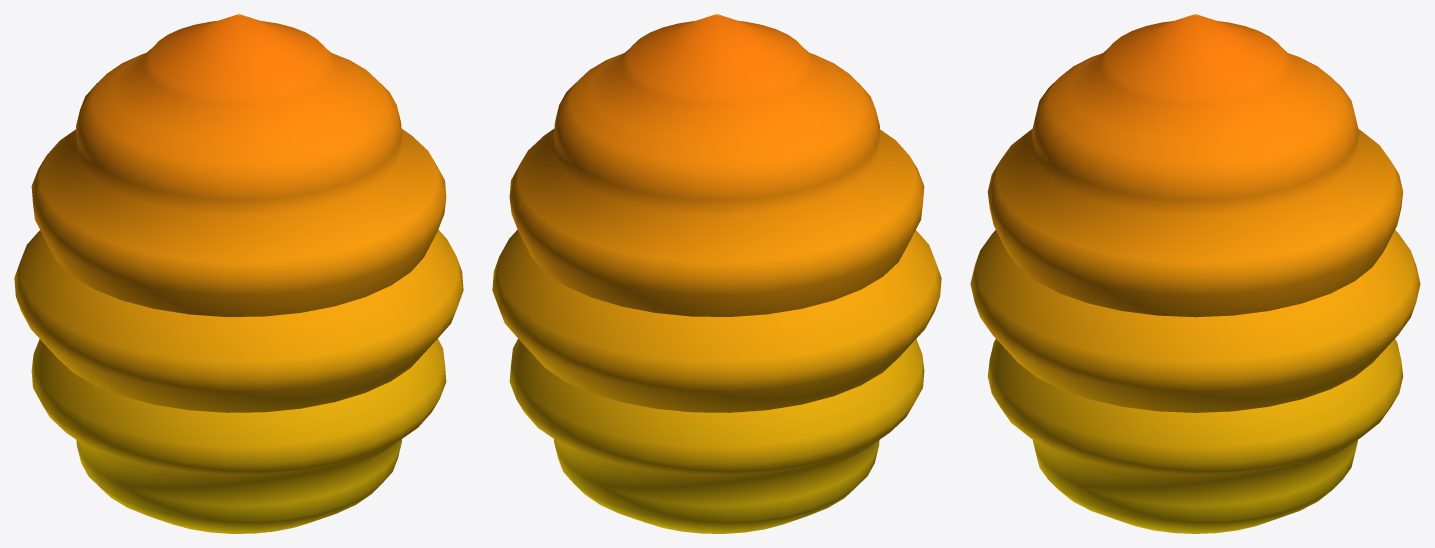
3 renders of one model, left to right at view 1: azimuth 30°, elevation 25°; view 2: azimuth 150°, elevation 25°; view 3: azimuth 270°, elevation 25°, orthographic.
Parts seen in each view (by area): view 1: Hive; view 2: Hive; view 3: Hive.
Part boxes in pixels (left/top/right/bottom): Hive: left=14, top=14, right=463, bottom=533; Hive: left=492, top=14, right=941, bottom=533; Hive: left=970, top=14, right=1420, bottom=533.
Bounding box in the file's own units: 1.94 × 2.35 × 1.94.
1 material, 1 textured.
